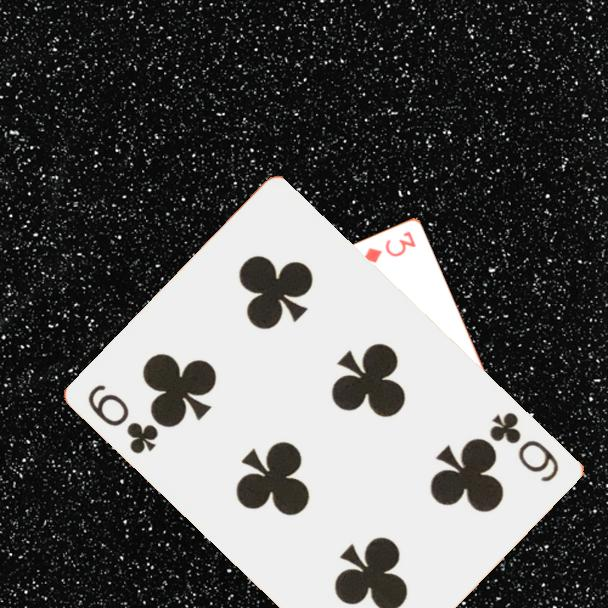c06: (486, 408, 563, 486), (85, 381, 162, 458)
d03: (360, 227, 419, 266)
